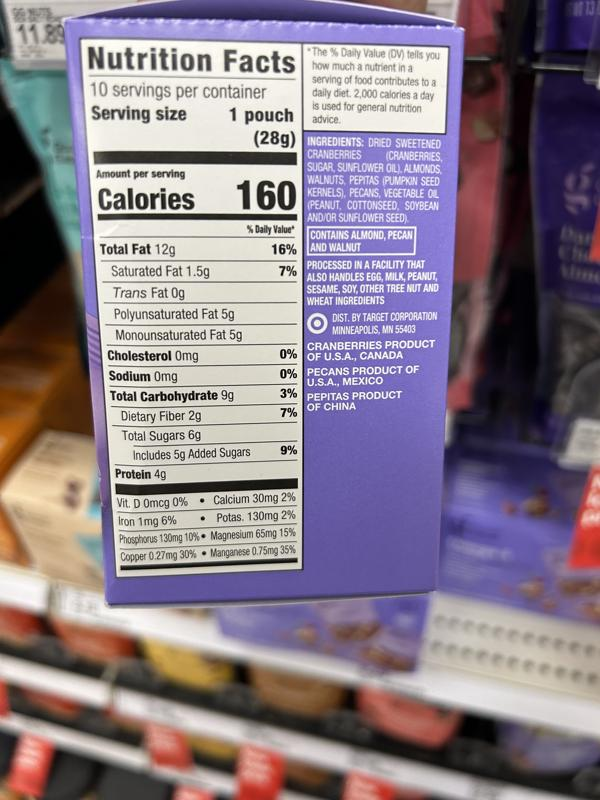ingredients: (305, 135, 442, 223)
